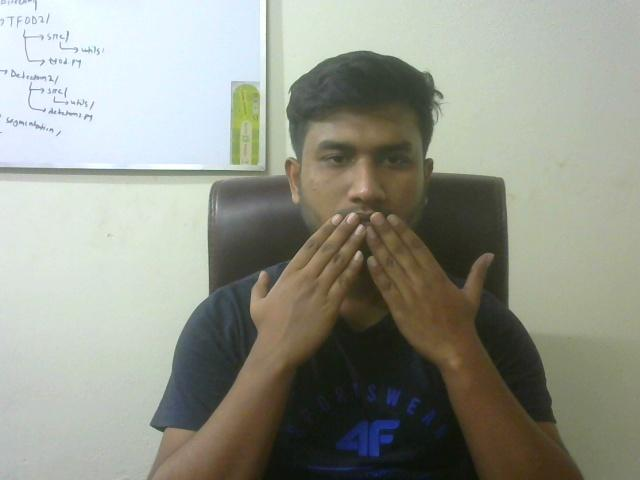Thanks: (238, 199, 514, 371)
